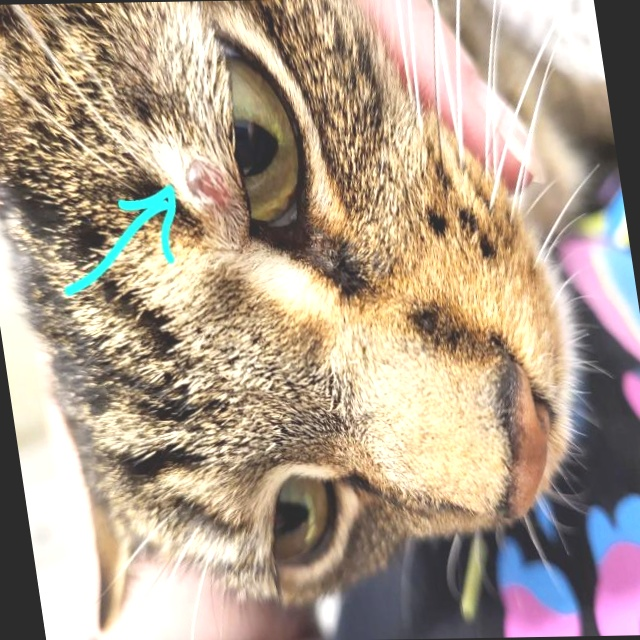lump_and_bump: (187, 162, 231, 208)
